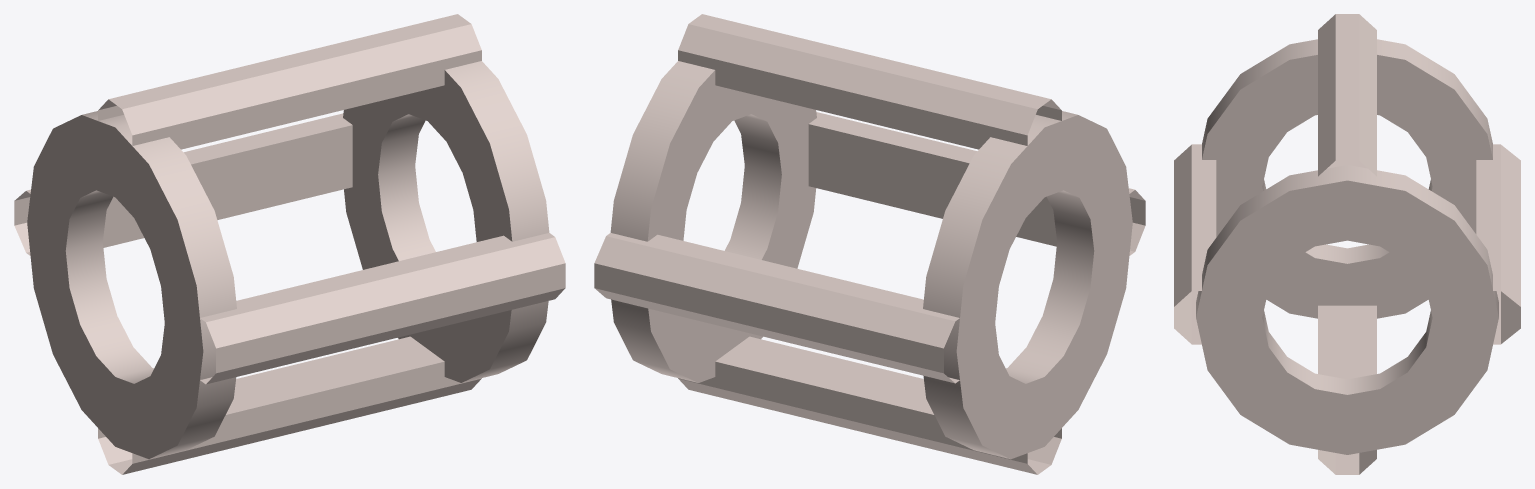
The model's file is Env_SetP_SpaceStation_ReactorPiping_1x1.fbx.
The picture shows the model from 3 angles, left to right: view 1: azimuth 30°, elevation 25°; view 2: azimuth 150°, elevation 25°; view 3: azimuth 270°, elevation 25°; orthographic projection. The views are drawn at different scales.
Parts seen in each view (by area): view 1: PipeStraight; view 2: PipeStraight; view 3: PipeStraight.
Part boxes in pixels (bbox=[...]): PipeStraight: bbox=[14, 14, 565, 474]; PipeStraight: bbox=[594, 14, 1145, 474]; PipeStraight: bbox=[1174, 14, 1520, 474].
Bounding box in the file's own units: 100 × 100 × 100.
